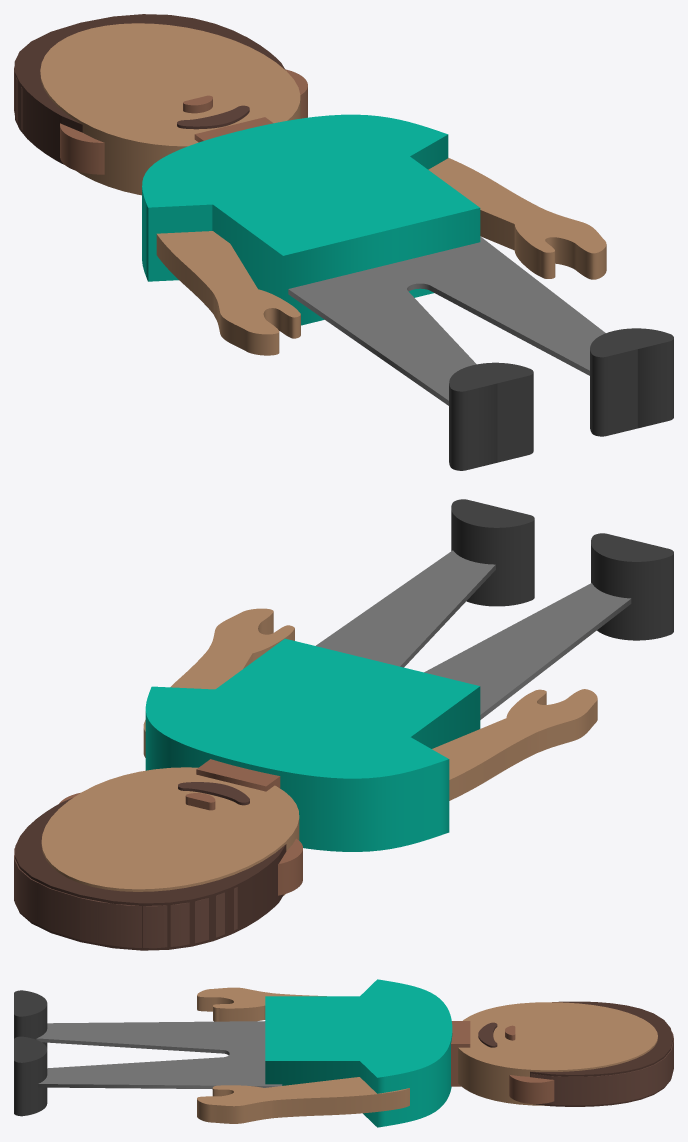
Rendered from emoji_u1f9cd_1f3fd_200d_2642.glb.
The picture shows the model from 3 angles, top to bottom: view 1: azimuth 30°, elevation 25°; view 2: azimuth 150°, elevation 25°; view 3: azimuth 270°, elevation 25°; orthographic projection. The views are drawn at different scales.
Visible parts, largest first — view 1: emoji_u1f9cd_1f3fd_200d_2642; view 2: emoji_u1f9cd_1f3fd_200d_2642; view 3: emoji_u1f9cd_1f3fd_200d_2642.
Boxes of the visible parts, <box> form: emoji_u1f9cd_1f3fd_200d_2642: <box>14,14,673,470</box>; emoji_u1f9cd_1f3fd_200d_2642: <box>14,499,673,950</box>; emoji_u1f9cd_1f3fd_200d_2642: <box>14,979,673,1127</box>.
Bounding box in the file's own units: 0.0145 × 0.003 × 0.0336.
